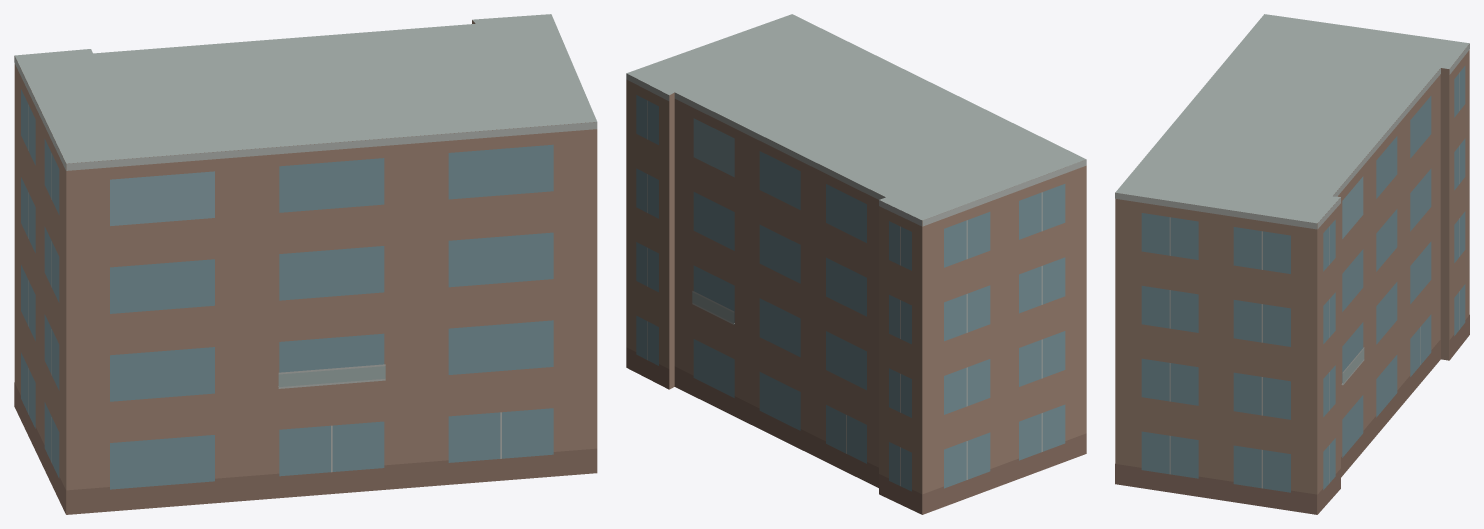
Rendered from survey-upis-32961028.glb.
3 views of the same model, side by side, from view 1: azimuth 30°, elevation 25°; view 2: azimuth 150°, elevation 25°; view 3: azimuth 270°, elevation 25° (orthographic). The views are drawn at different scales.
Visible parts, largest first — view 1: survey-upis-32961028.tmp; view 2: survey-upis-32961028.tmp; view 3: survey-upis-32961028.tmp.
Boxes of the visible parts, x1,y1,x2,y2 form: survey-upis-32961028.tmp: (14,14,597,514); survey-upis-32961028.tmp: (626,14,1086,514); survey-upis-32961028.tmp: (1115,14,1469,514).
Size of the model in its own units: 18.04 by 11.7 by 12.91.
